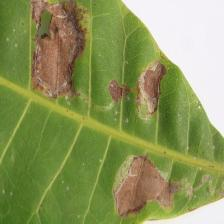leaf miner: (25, 0, 98, 109), (103, 143, 184, 223), (100, 55, 169, 124)
